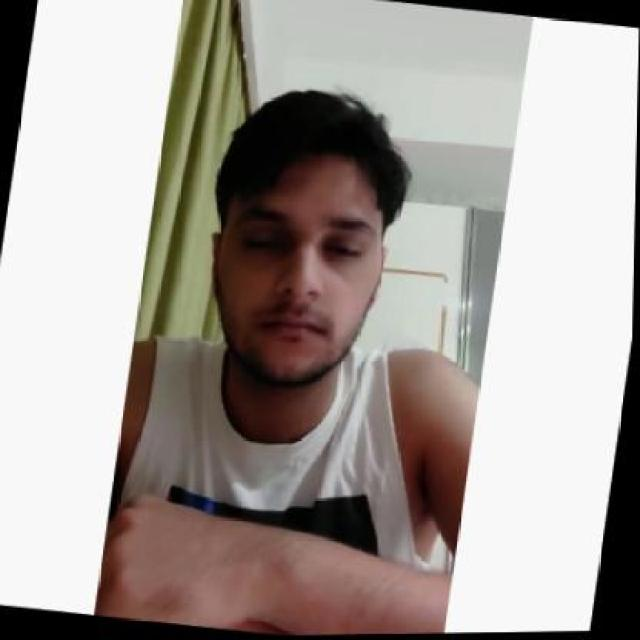inattentif: (181, 77, 417, 400)
